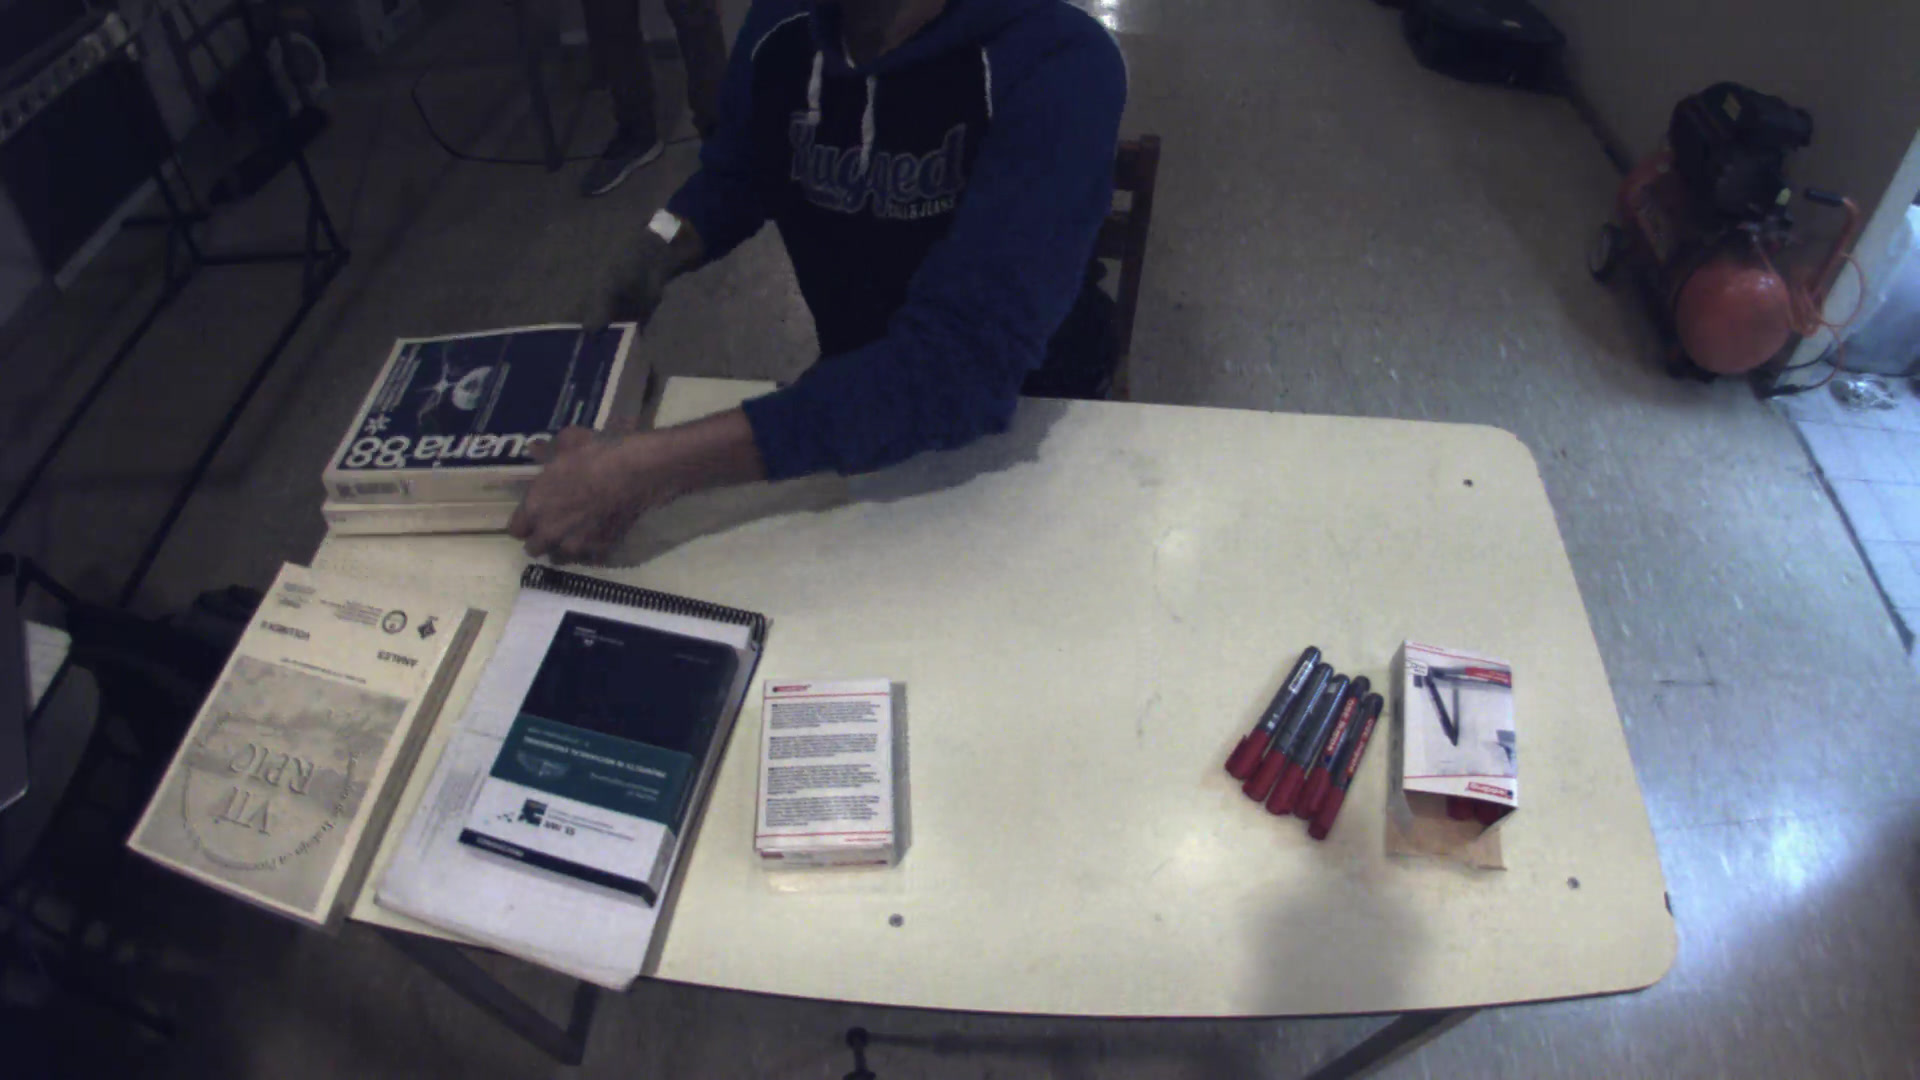hand: (493, 421, 653, 564), (559, 215, 692, 328)
